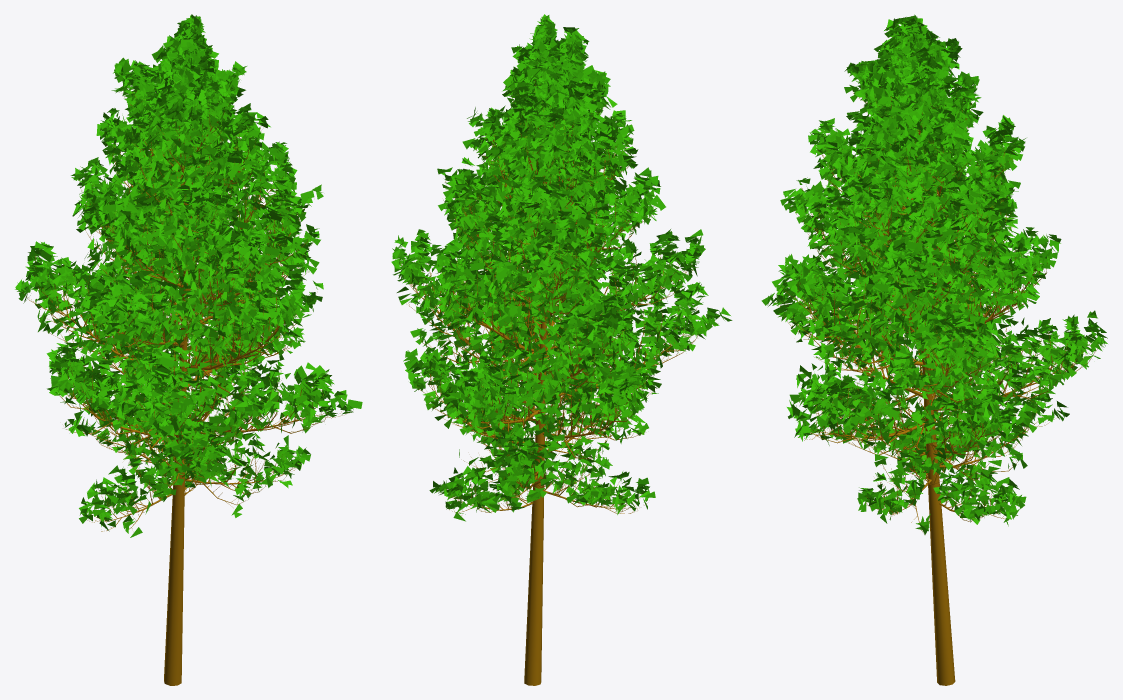
Rendered from Tree2.glb.
The picture shows the model from 3 angles, left to right: view 1: azimuth 30°, elevation 25°; view 2: azimuth 150°, elevation 25°; view 3: azimuth 270°, elevation 25°; orthographic projection. The views are drawn at different scales.
Parts seen in each view (by area): view 1: leaves.001, tree.001; view 2: leaves.001, tree.001; view 3: leaves.001, tree.001.
Boxes of the visible parts, x1,y1,x2,y2 form: leaves.001: [15, 14, 362, 537]; tree.001: [23, 82, 345, 685]; leaves.001: [391, 14, 732, 521]; tree.001: [399, 63, 717, 685]; leaves.001: [761, 14, 1107, 534]; tree.001: [776, 60, 1097, 685].
Size of the model in its own units: 7.66 by 17.67 by 8.31.
